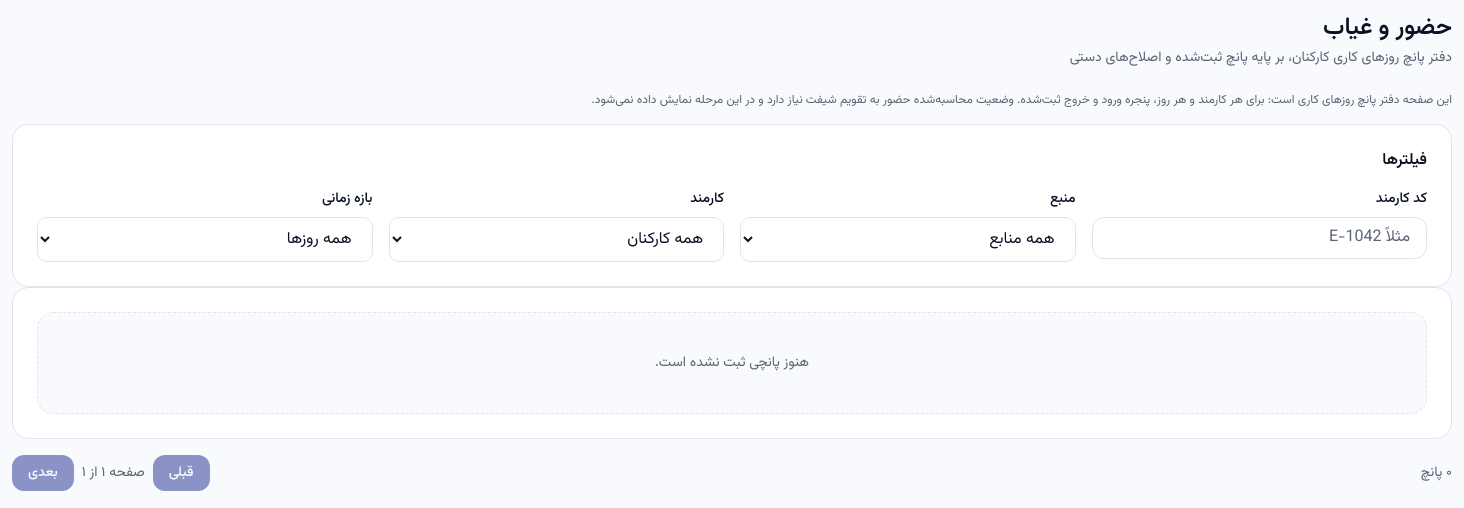
HrAttendanceView › names the filters when an empty register is the result of them
Select "اصلاح دستی" in the dropdown with id "hr-attendance-source" at x=908, y=240, box [740,217,1076,262]
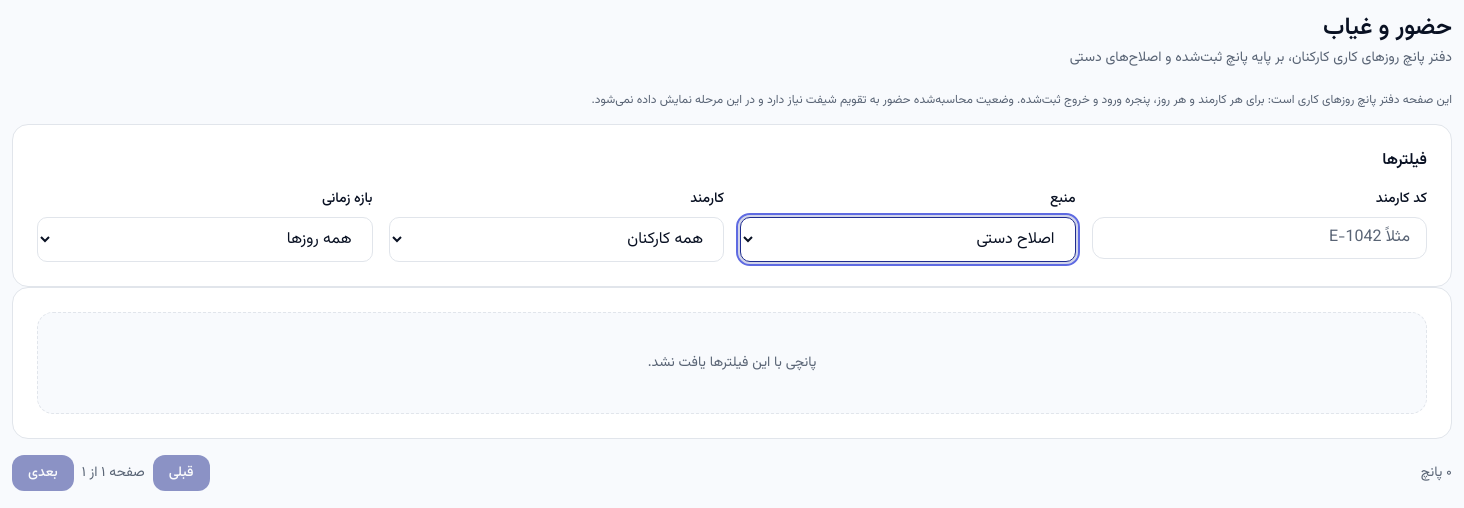
Now the text "پانچی با این فیلترها یافت نشد." is shown, box [37,312,1427,414]
